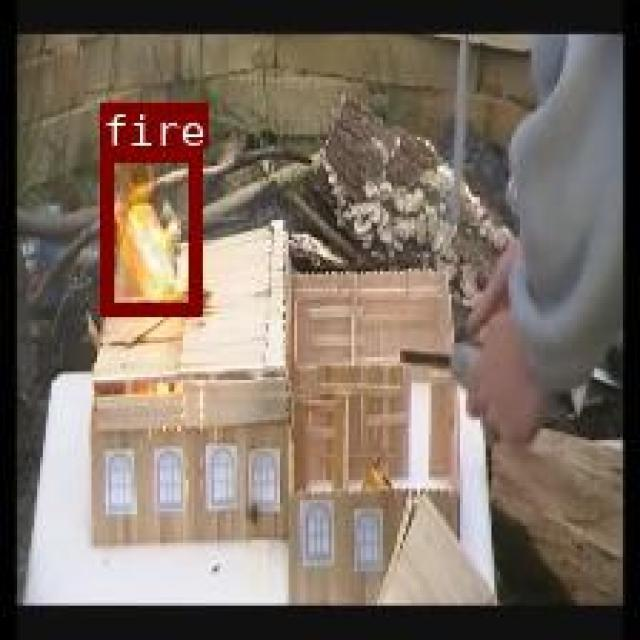fire: (99, 148, 197, 312)
